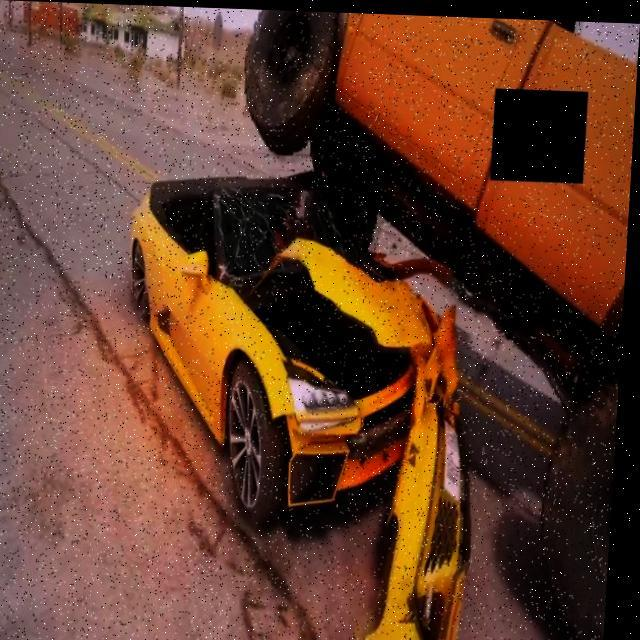multiple_accident: (132, 19, 638, 634)
